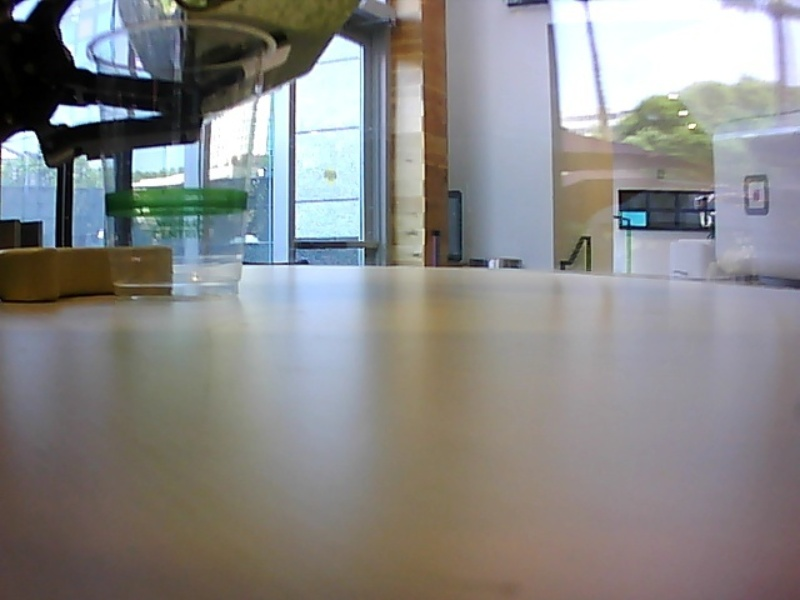cup: (84, 18, 280, 302)
